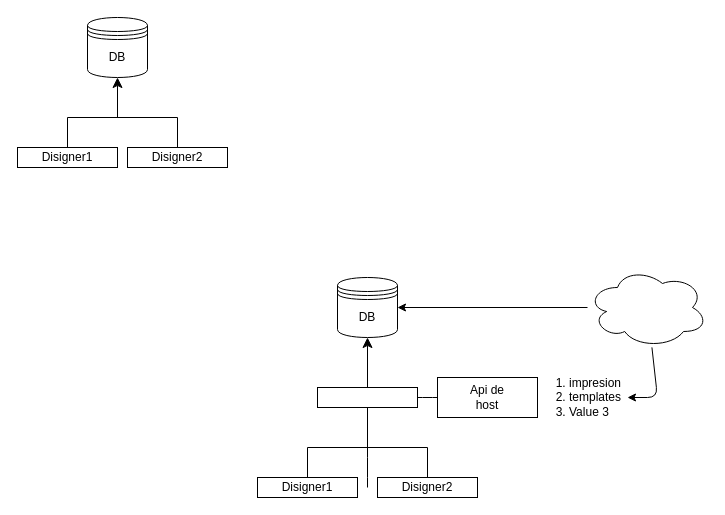
The diagram is 725 pixels wide and 515 high, and some of its shapes have lost their labels. Here are the shapes that lost their labels. From the top down, the box of each, then its label:
(586, 266, 708, 348): App Web (PXI)
(316, 386, 418, 408): DisignerHost
